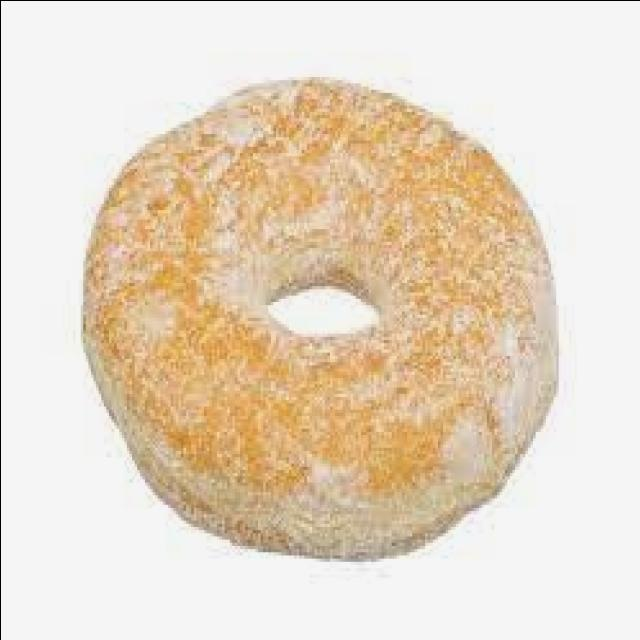donat: (80, 79, 563, 561)
